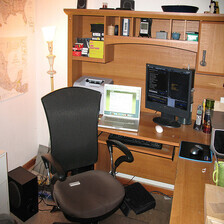laptop: (81, 76, 153, 142)
